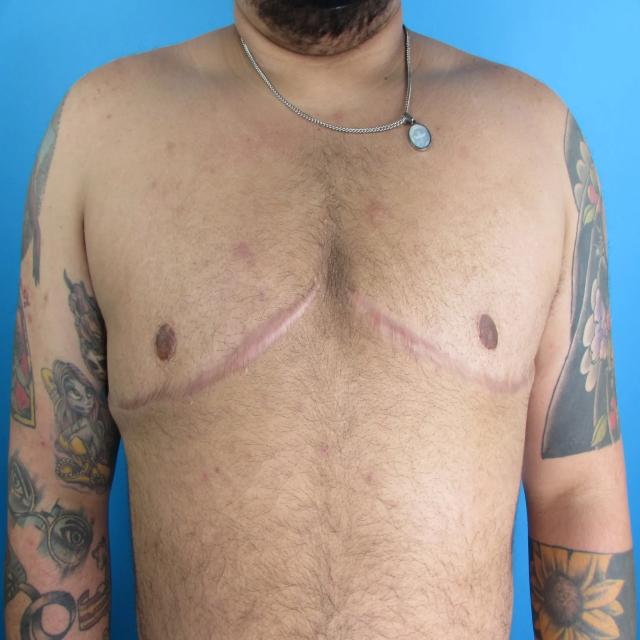Seno herido: (101, 230, 328, 434), (337, 230, 552, 418)
